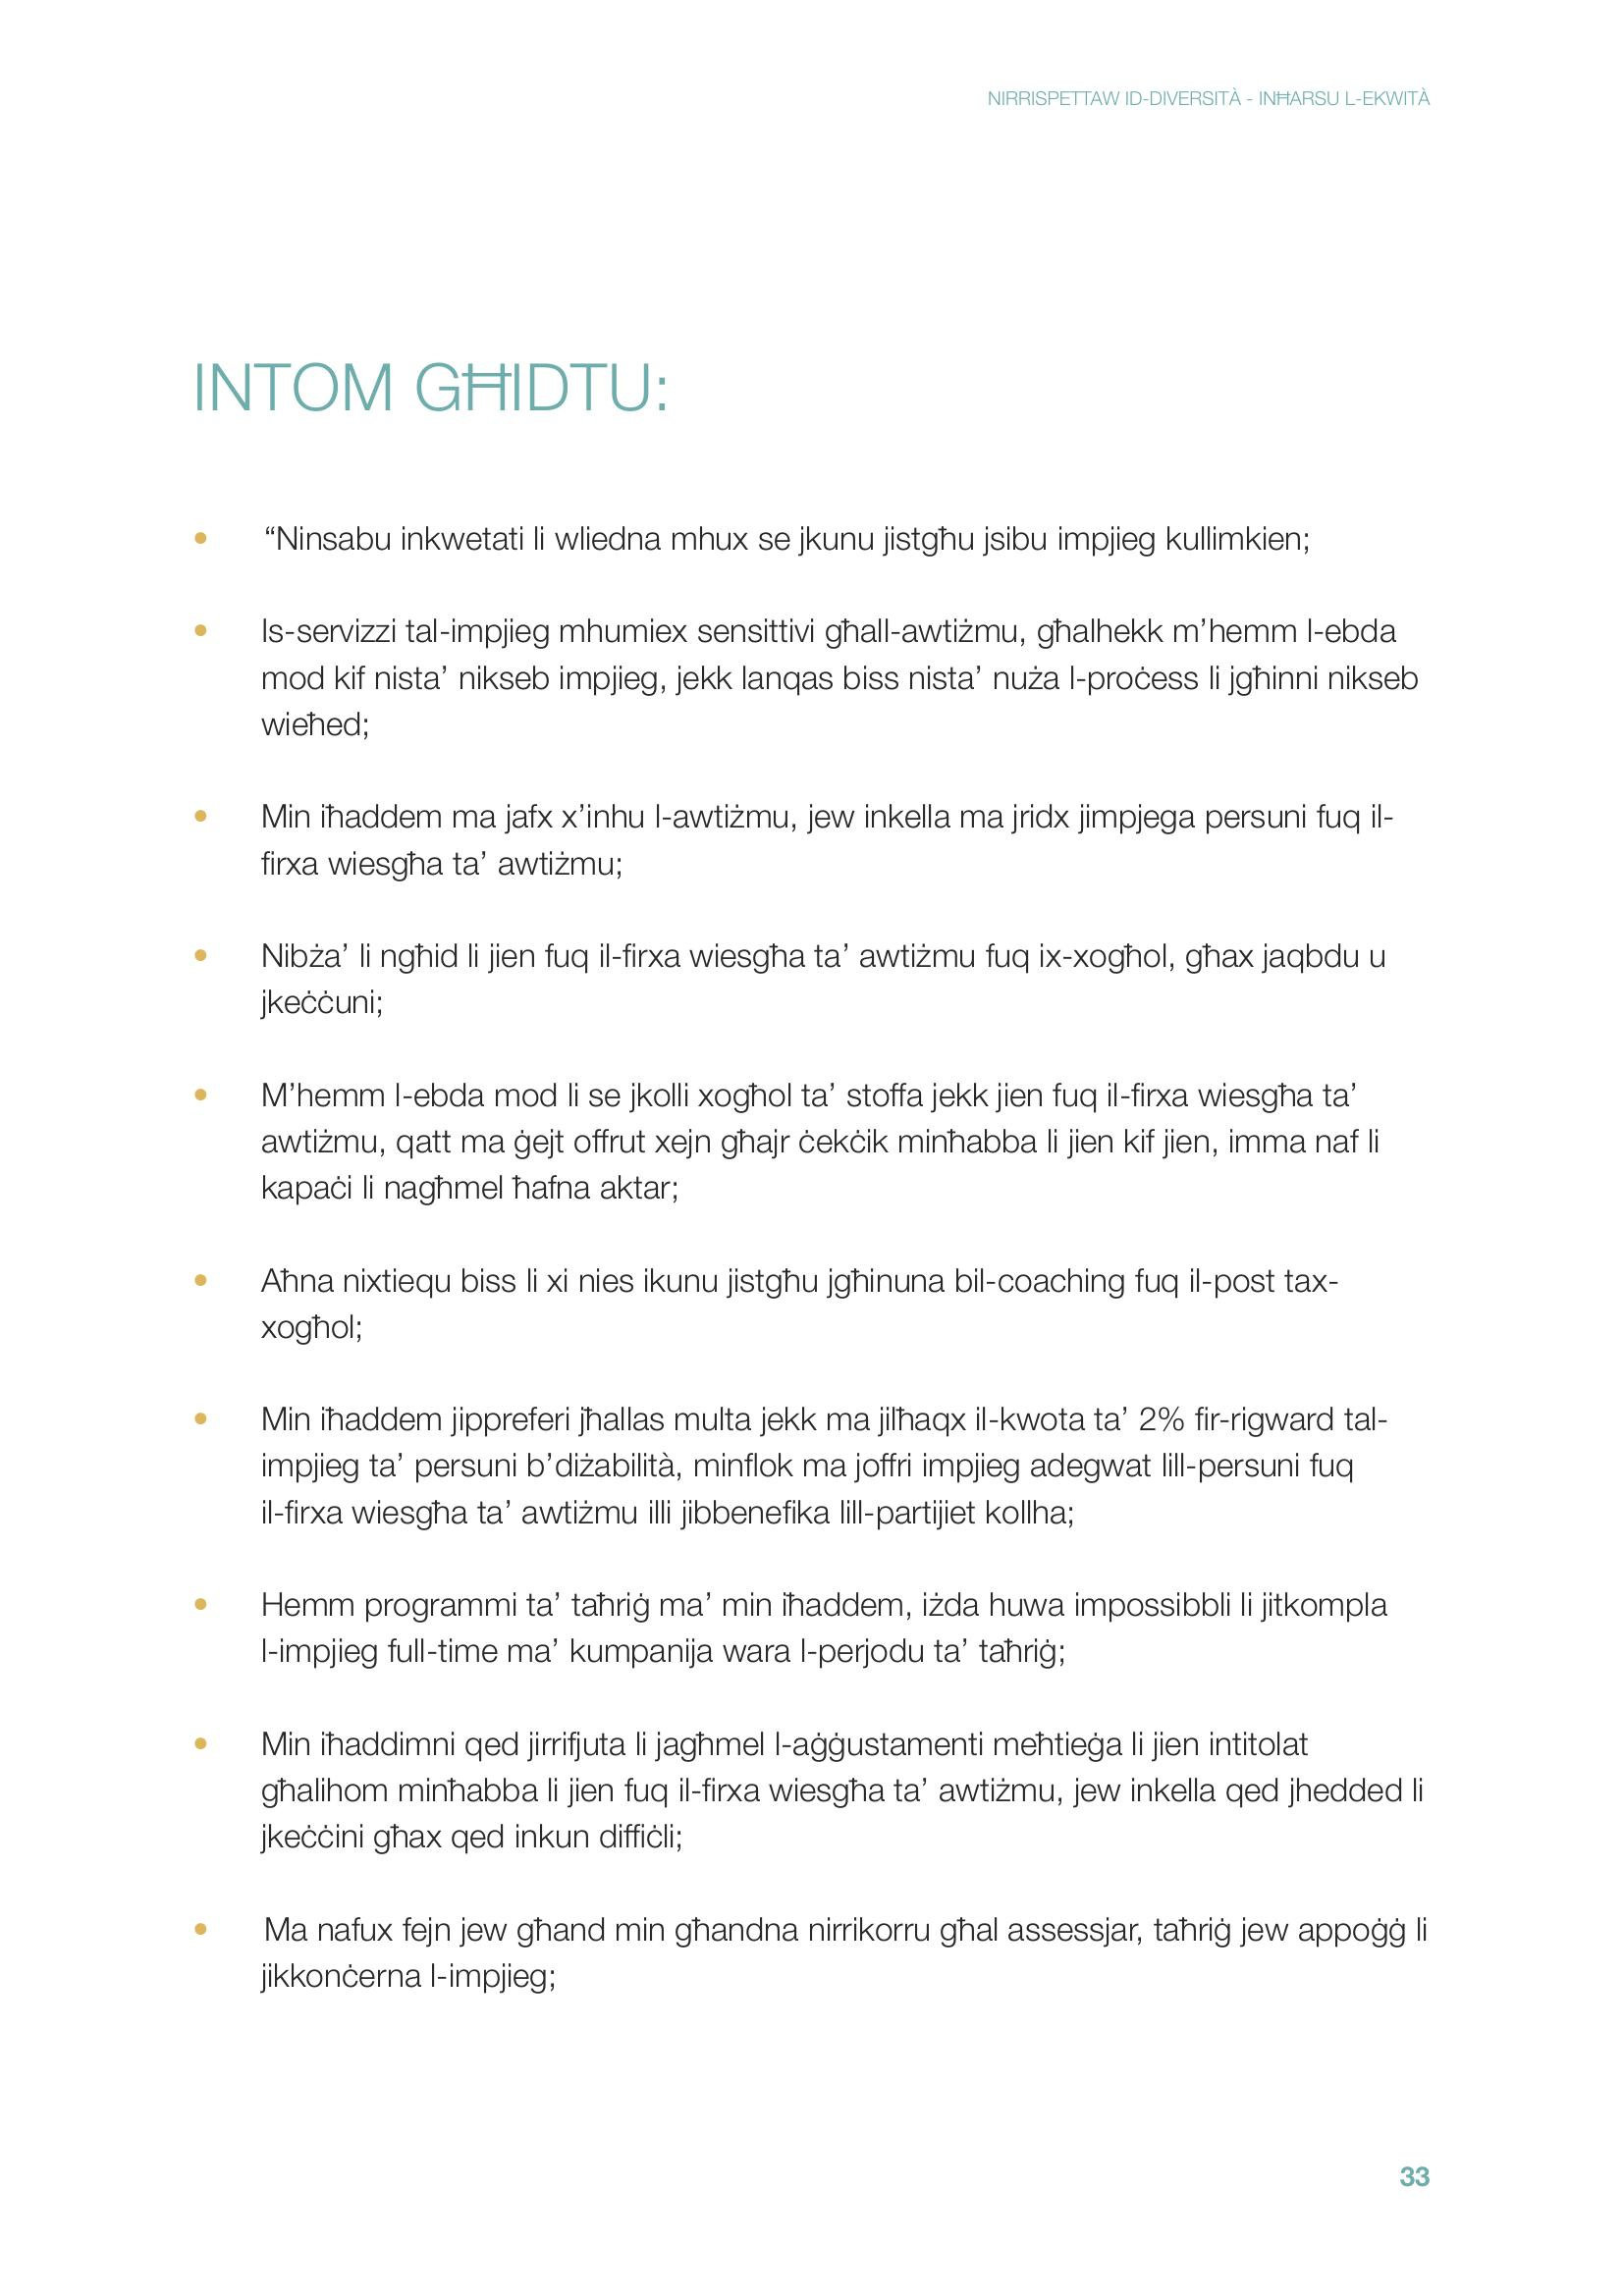text: (155, 330, 1469, 2040)
